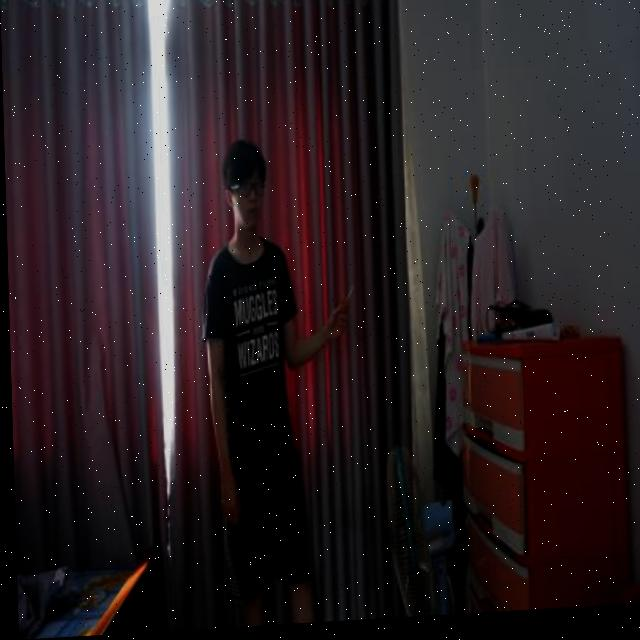cigarette: (342, 289, 353, 309)
